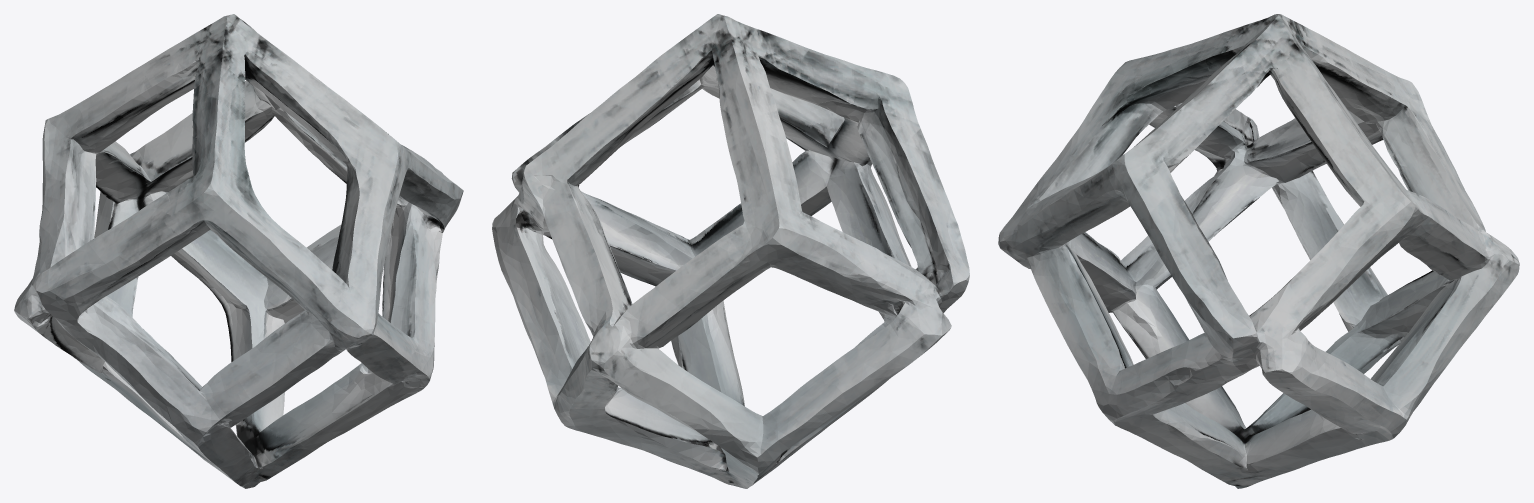
File: ufo_5.glb
3 renders of one model, left to right at view 1: azimuth 30°, elevation 25°; view 2: azimuth 150°, elevation 25°; view 3: azimuth 270°, elevation 25°, orthographic. The views are drawn at different scales.
Parts seen in each view (by area): view 1: geometry_0; view 2: geometry_0; view 3: geometry_0.
Boxes of the visible parts, <box> form: geometry_0: <box>14,14,463,488</box>; geometry_0: <box>492,14,969,488</box>; geometry_0: <box>998,14,1519,488</box>.
Bounding box in the file's own units: 0.966 × 0.9994 × 1.
1 material, 1 textured.
